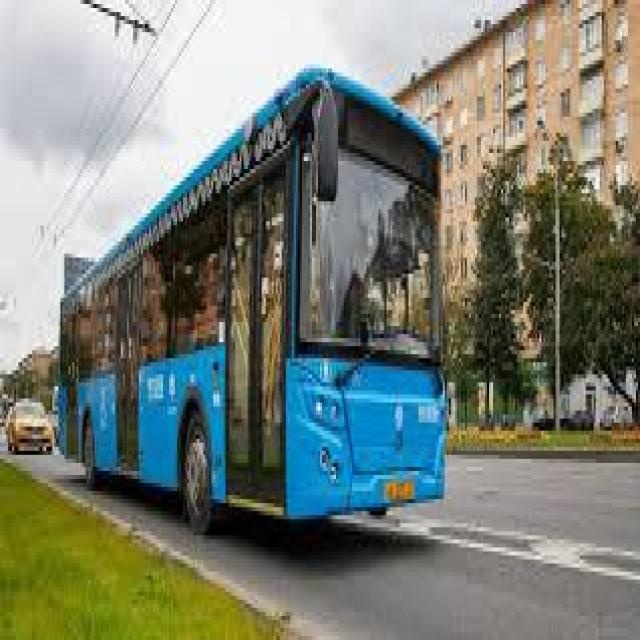Bus: (48, 56, 461, 548)
